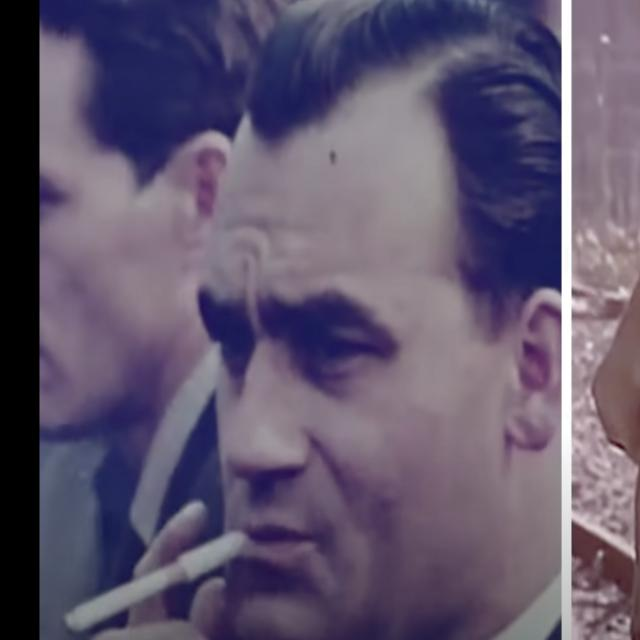cigarette: (60, 533, 258, 633)
